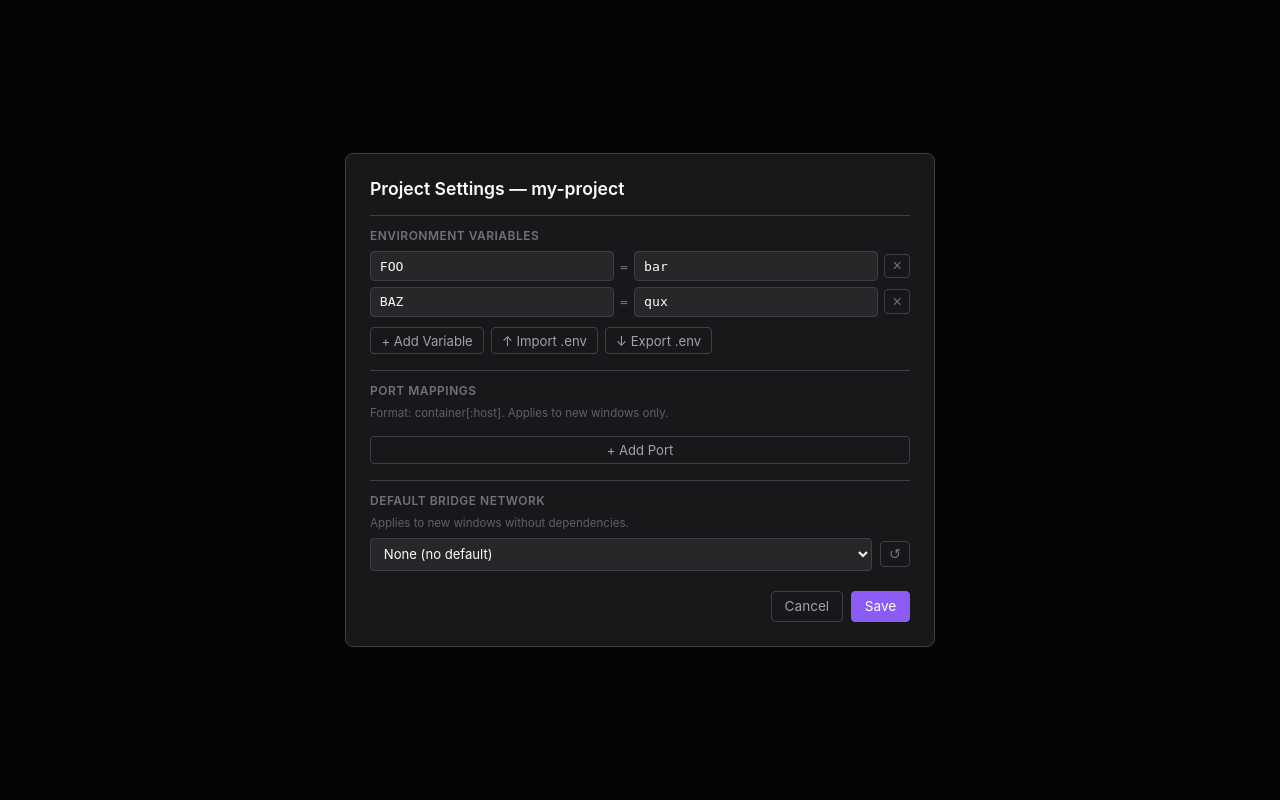
Test case: ProjectSettingsView › shows an inline error when updateProjectEnvVars rejects
The image size is (1280, 800).
Click the button "Save": (880,606) [851,591,910,622]
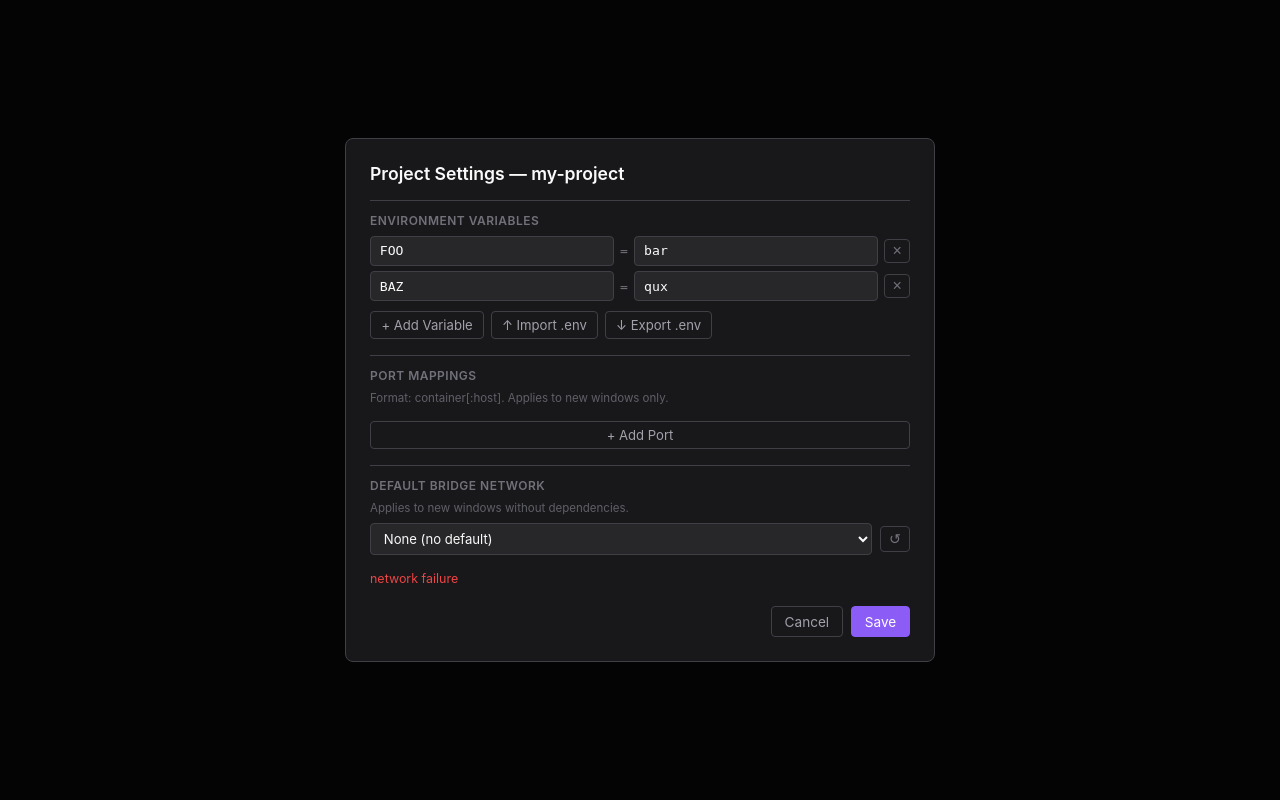
Check: the text "network failure" is shown, box [370,571,458,586]
